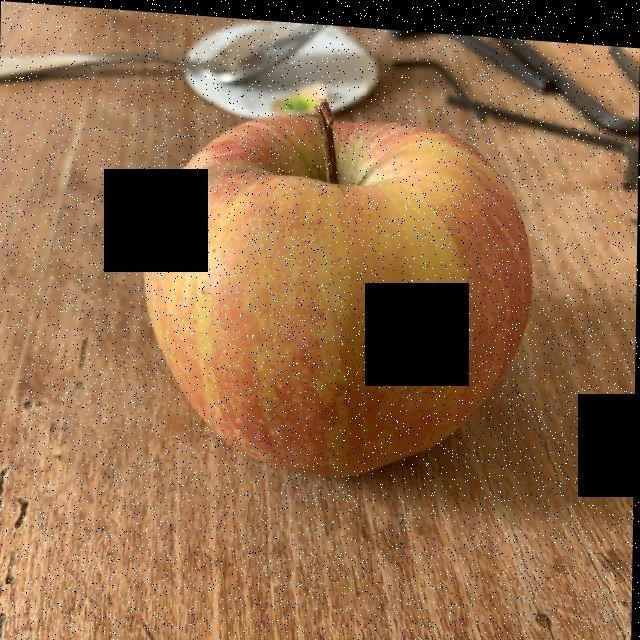apple: (150, 107, 528, 466)
